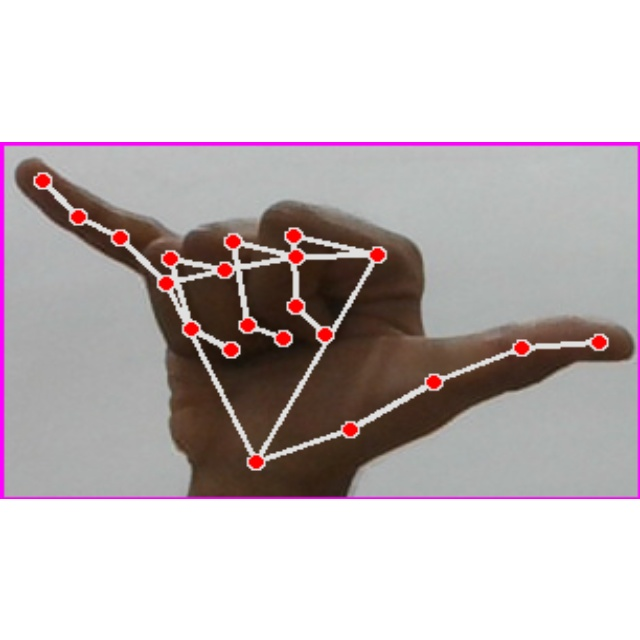Y: (0, 142, 640, 499)
